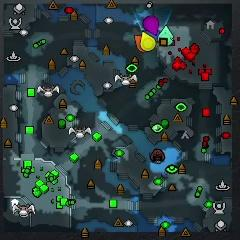p1: (146, 30, 157, 41)
p2: (159, 25, 174, 46)
p3: (143, 16, 158, 34)
p4: (140, 32, 155, 51)
p5: (134, 34, 145, 52)
